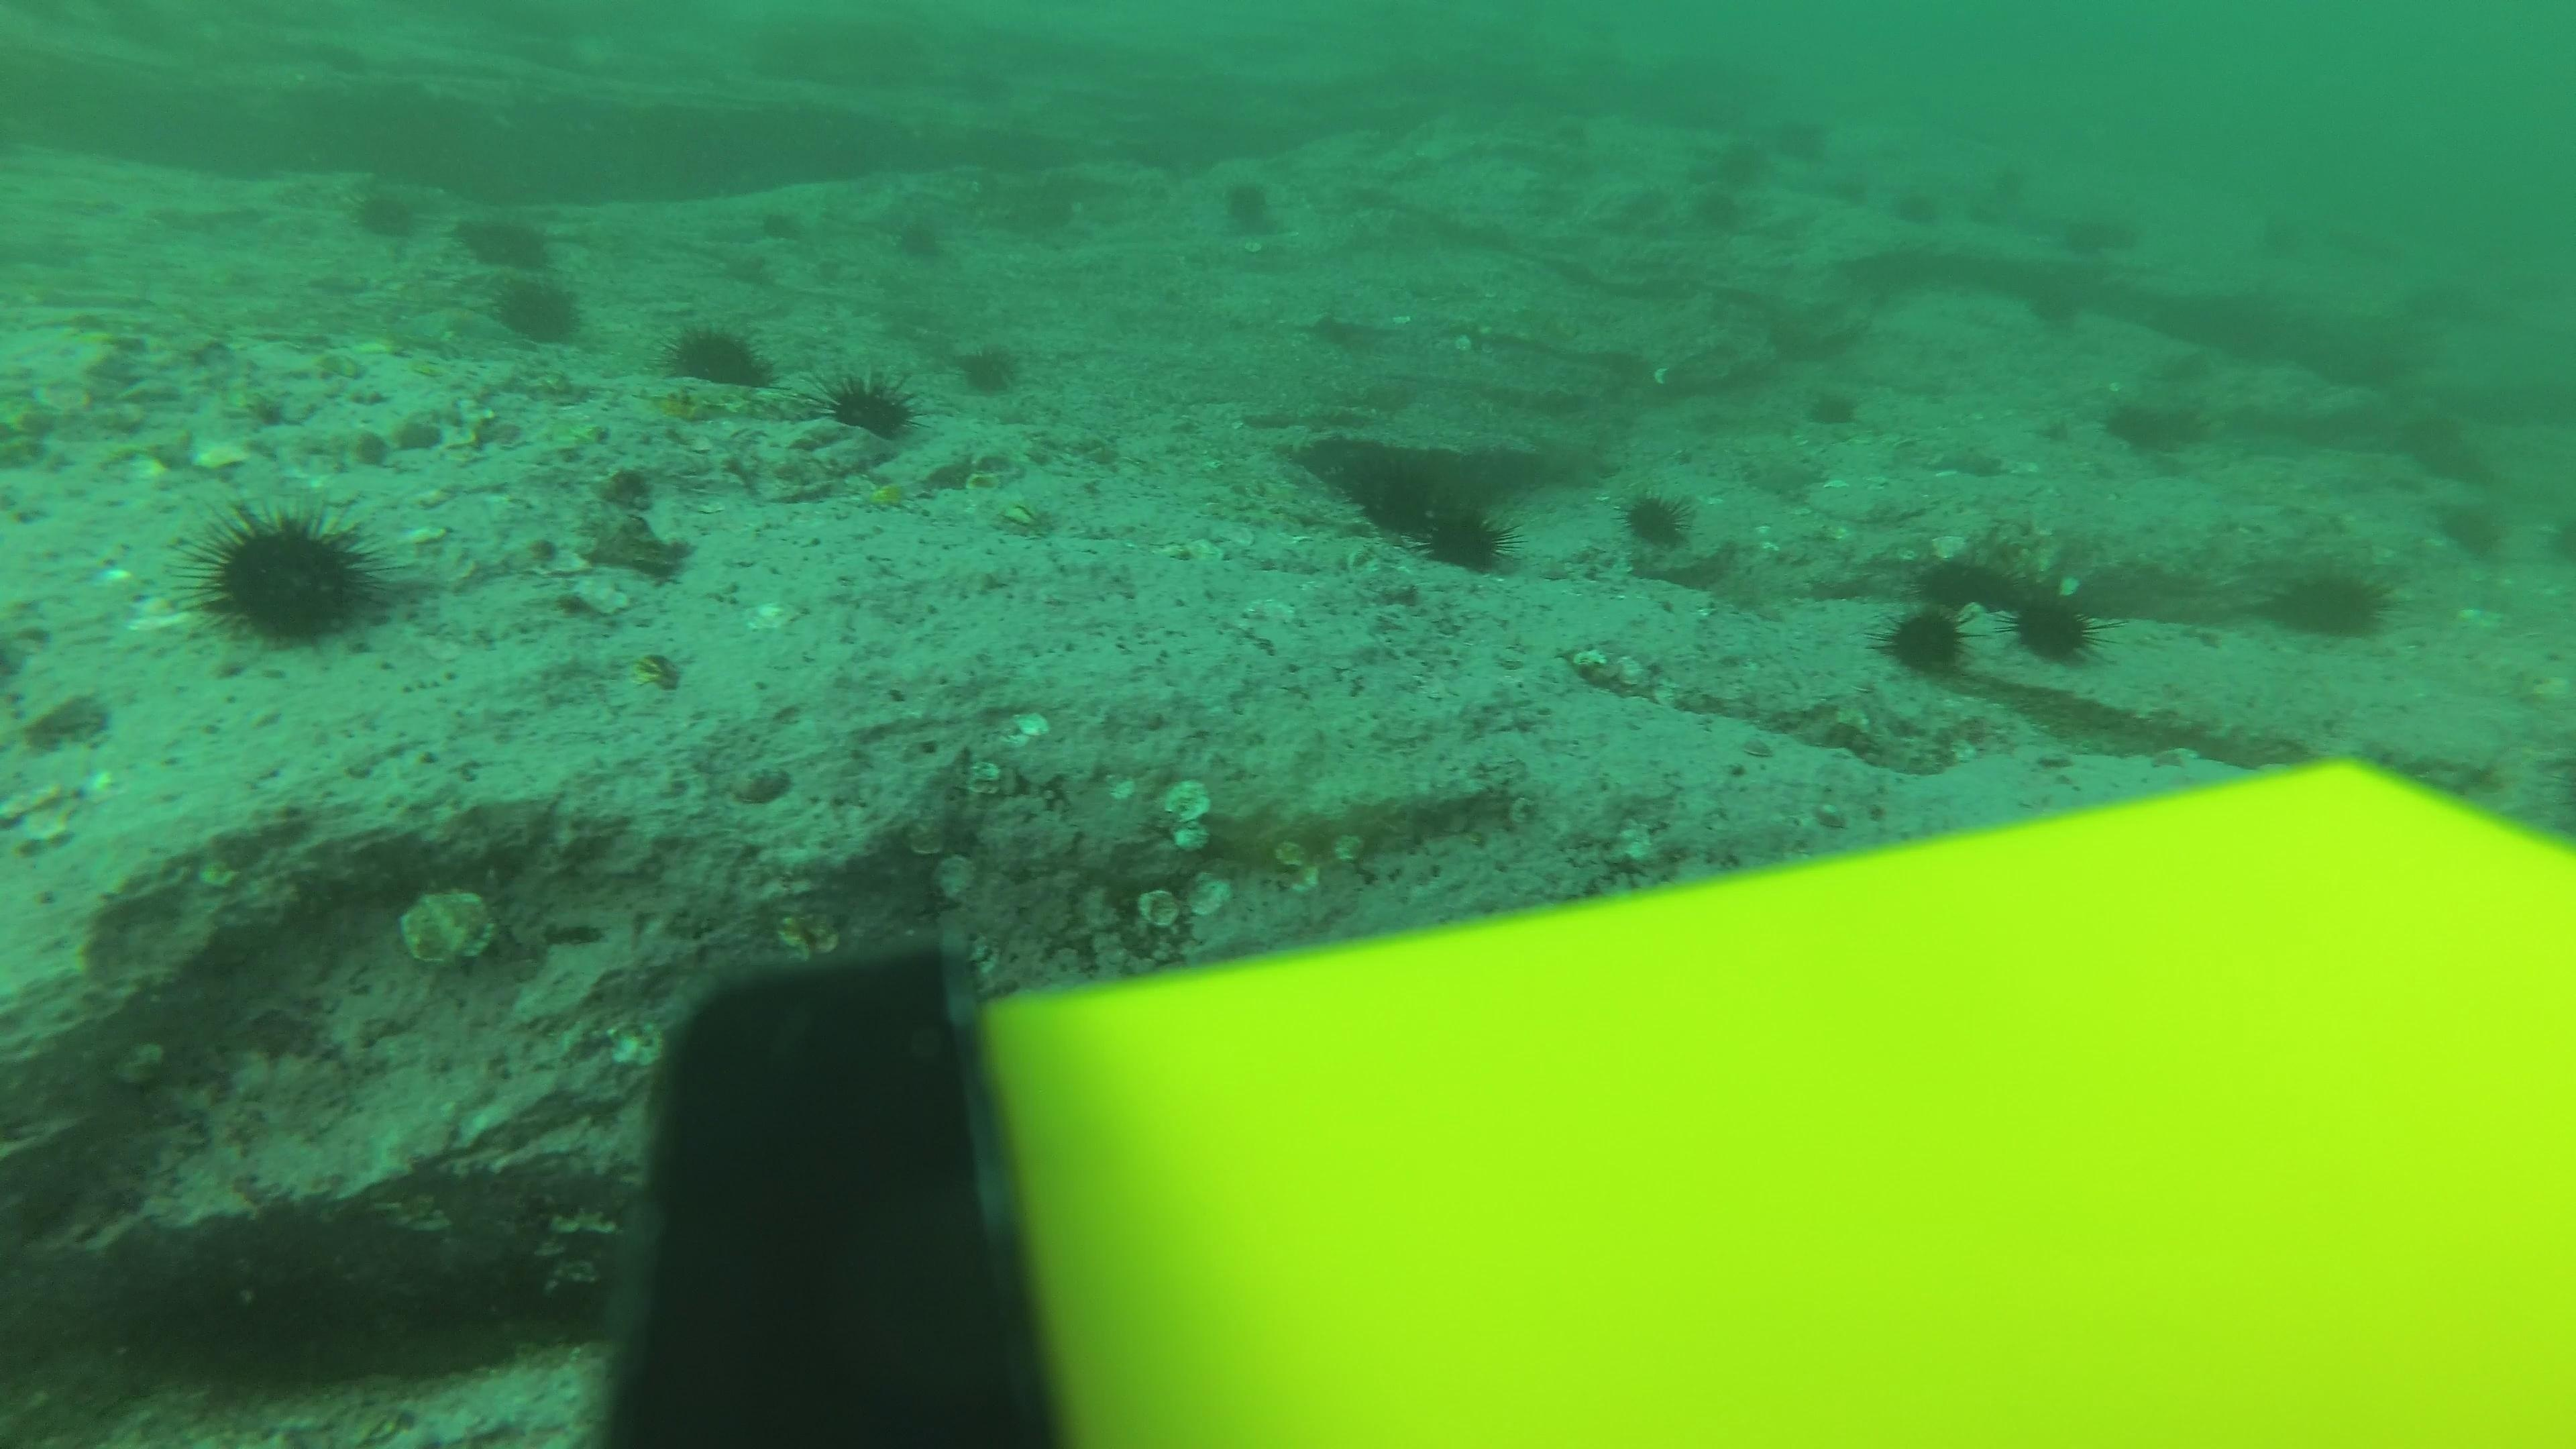echinus: (180, 495, 395, 656), (2261, 552, 2399, 648), (1336, 453, 1472, 545), (1394, 485, 1520, 582), (1872, 589, 1989, 686), (1996, 577, 2111, 674), (1898, 545, 2005, 648), (1606, 479, 1714, 580), (660, 313, 777, 400), (481, 260, 591, 352), (2075, 391, 2189, 472), (817, 364, 924, 449), (449, 205, 561, 274), (341, 175, 430, 248), (731, 184, 817, 257), (885, 200, 971, 271), (1210, 170, 1290, 244), (950, 334, 1031, 403), (2066, 216, 2141, 264), (2238, 211, 2312, 258), (1794, 384, 1867, 432), (2017, 288, 2089, 336), (1767, 115, 1840, 163), (1702, 140, 1775, 188), (1684, 191, 1757, 239), (1966, 165, 2040, 211), (1881, 184, 1953, 230)
starfish: (382, 297, 517, 364), (1741, 444, 1840, 510), (847, 467, 934, 518), (1923, 435, 2012, 483)
